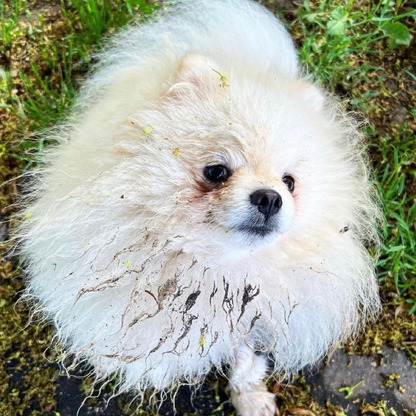Pomeranian: (52, 34, 388, 392)
